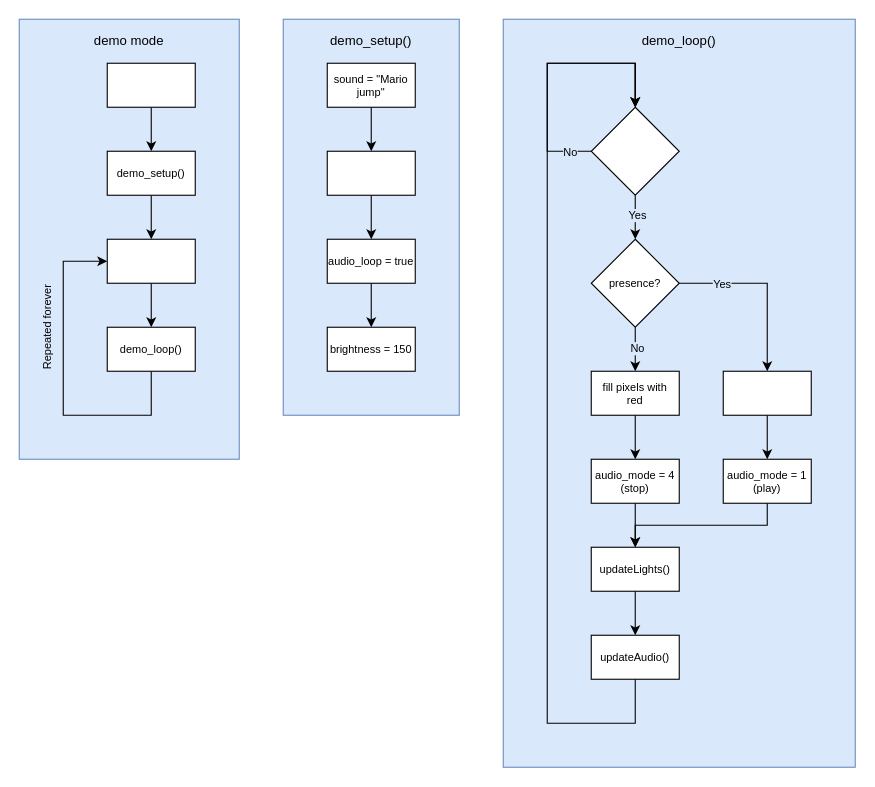
Some shapes in this 875 by 787 pixel diagram are drawn without their labels. The centre of each missing label's shape, as x and y in pixels:
fill pixels with green: the point at 766,392
loop(): the point at 150,260
setup(): the point at 150,84
update-Presence(): the point at 634,150
volume = 30: the point at 370,172
